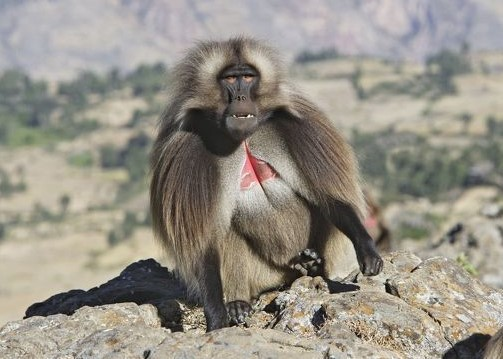Gelada: (159, 39, 368, 297)
